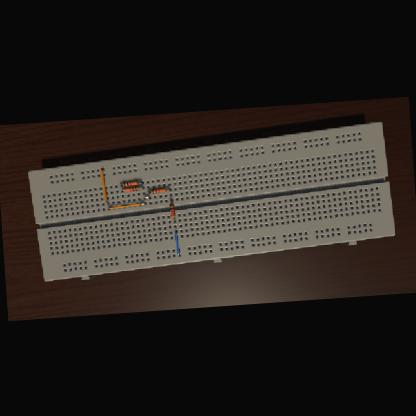breadboard: (25, 120, 396, 282)
resistor: (168, 202, 174, 217), (150, 186, 165, 192), (123, 184, 138, 190), (122, 180, 136, 186)
wire: (100, 167, 108, 202), (107, 201, 146, 208), (174, 230, 180, 255), (165, 188, 170, 190), (142, 196, 150, 197), (172, 217, 174, 220), (170, 198, 172, 201), (147, 190, 150, 192), (137, 181, 143, 182), (138, 186, 143, 187), (121, 188, 122, 190), (119, 184, 121, 184)
